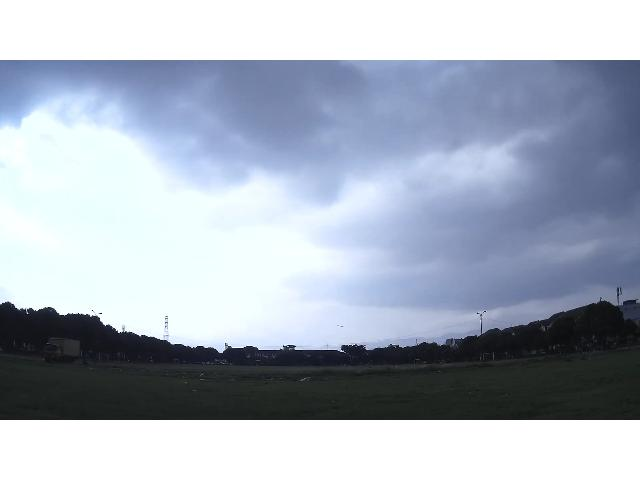Anti-Drone: (336, 325, 346, 327)
